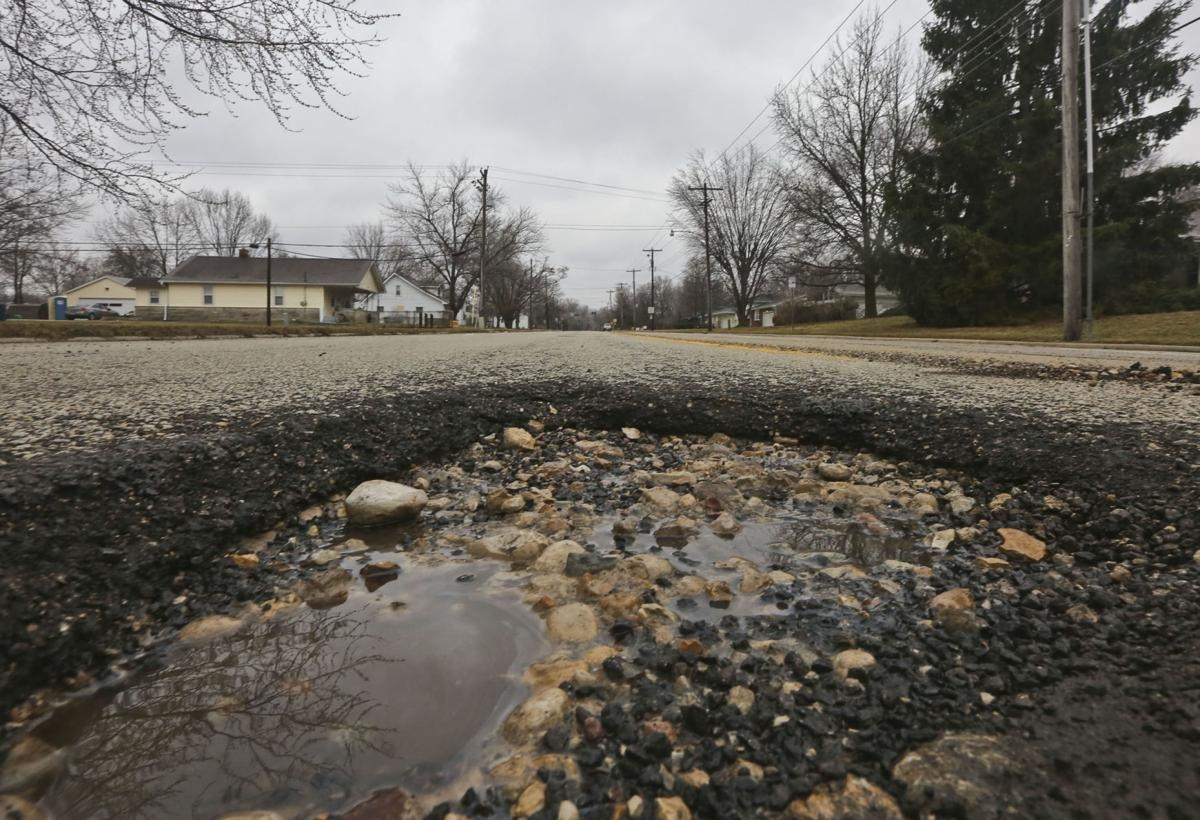pothole: (30, 313, 1142, 820)
